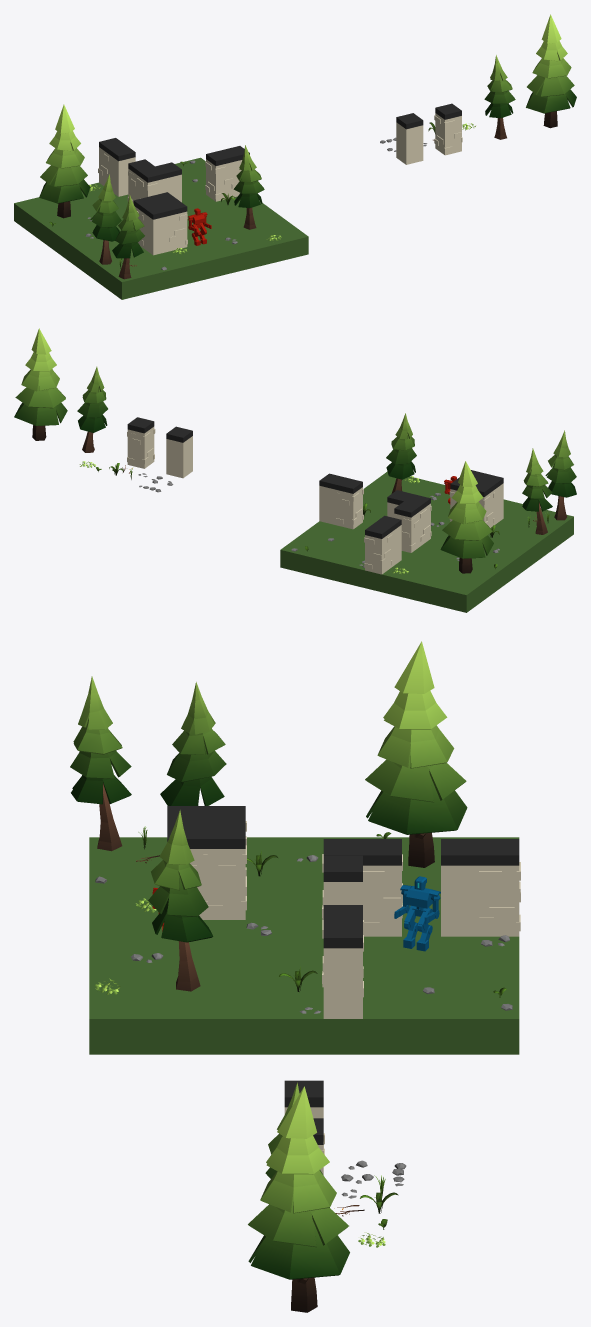
File: arena_1.glb
The picture shows the model from 3 angles, top to bottom: view 1: azimuth 30°, elevation 25°; view 2: azimuth 150°, elevation 25°; view 3: azimuth 270°, elevation 25°; orthographic projection. The views are drawn at different scales.
Visible parts, largest first — view 1: tree_big.001, tree_big, tree_small.001, tree_small.004, tree_small.002, tree_small, wall_plain, wall_brick.008, wall_brick, wall_brick.006, wall_plain.005, wall_plain.009 (+20 smaller); view 2: tree_big, tree_big.001, tree_small.004, tree_small, tree_small.002, tree_small.001, wall_brick, wall_brick.001, wall_brick.006, wall_plain, wall_brick.007, wall_plain.010 (+18 smaller); view 3: tree_big.001, tree_big, tree_small.002, tree_small.004, tree_small.001, wall_brick.001, wall_brick.002, wall_plain.010, wall_plain.005, wall_brick.007, Cube.026, Cube.027 (+14 smaller).
Boxes of the visible parts, left/top/right/bottom form: tree_big.001: left=39, top=104, right=90, bottom=218; tree_big: left=526, top=14, right=576, bottom=128; tree_small.001: left=90, top=174, right=121, bottom=264; tree_small.004: left=112, top=194, right=144, bottom=279; tree_small.002: left=233, top=145, right=264, bottom=229; tree_small: left=484, top=55, right=515, bottom=139; wall_plain: left=396, top=113, right=423, bottom=164; wall_brick.008: left=143, top=203, right=170, bottom=255; wall_brick: left=434, top=103, right=462, bottom=155; wall_brick.006: left=205, top=150, right=233, bottom=201; wall_plain.005: left=108, top=145, right=135, bottom=196; wall_plain.009: left=160, top=199, right=187, bottom=250; tree_big: left=14, top=328, right=67, bottom=440; tree_big.001: left=440, top=461, right=493, bottom=573; tree_small.004: left=545, top=430, right=576, bottom=520; tree_small: left=77, top=366, right=107, bottom=452; tree_small.002: left=386, top=413, right=416, bottom=493; tree_small.001: left=522, top=448, right=552, bottom=534; wall_brick: left=127, top=417, right=155, bottom=468; wall_brick.001: left=364, top=523, right=392, bottom=574; wall_brick.006: left=335, top=477, right=363, bottom=529; wall_plain: left=166, top=426, right=192, bottom=478; wall_brick.007: left=394, top=501, right=421, bottom=552; wall_plain.010: left=319, top=473, right=345, bottom=524; tree_big.001: left=365, top=641, right=467, bottom=867; tree_big: left=248, top=1086, right=349, bottom=1312; tree_small.002: left=148, top=810, right=213, bottom=991; tree_small.004: left=70, top=676, right=131, bottom=851; tree_small.001: left=160, top=682, right=226, bottom=805; wall_brick.001: left=479, top=839, right=520, bottom=936; wall_brick.002: left=205, top=822, right=246, bottom=919; wall_plain.010: left=323, top=921, right=362, bottom=1018; wall_plain.005: left=441, top=839, right=480, bottom=936; wall_brick.007: left=363, top=839, right=402, bottom=936; Cube.026: left=206, top=1002, right=245, bottom=1054; Cube.027: left=245, top=1002, right=284, bottom=1054.
Bounding box in the file's own units: 60.01 × 14.48 × 23.08.
Materials: 42 (35 with a texture image).
